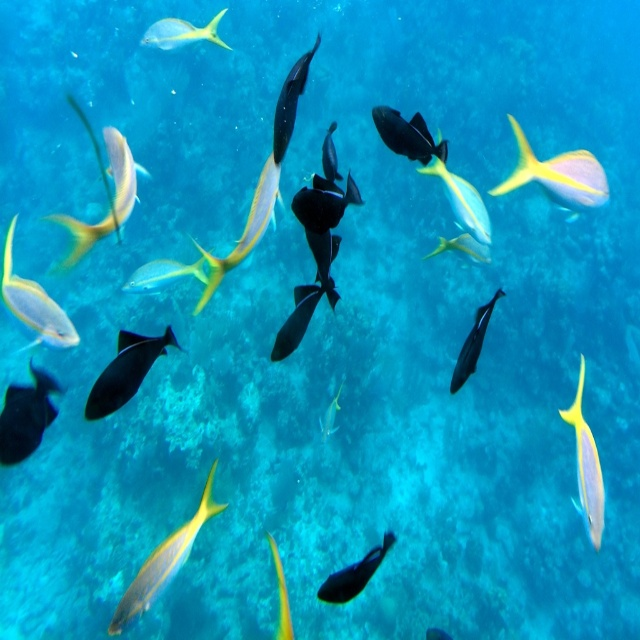Fish: (0, 8, 611, 640)
